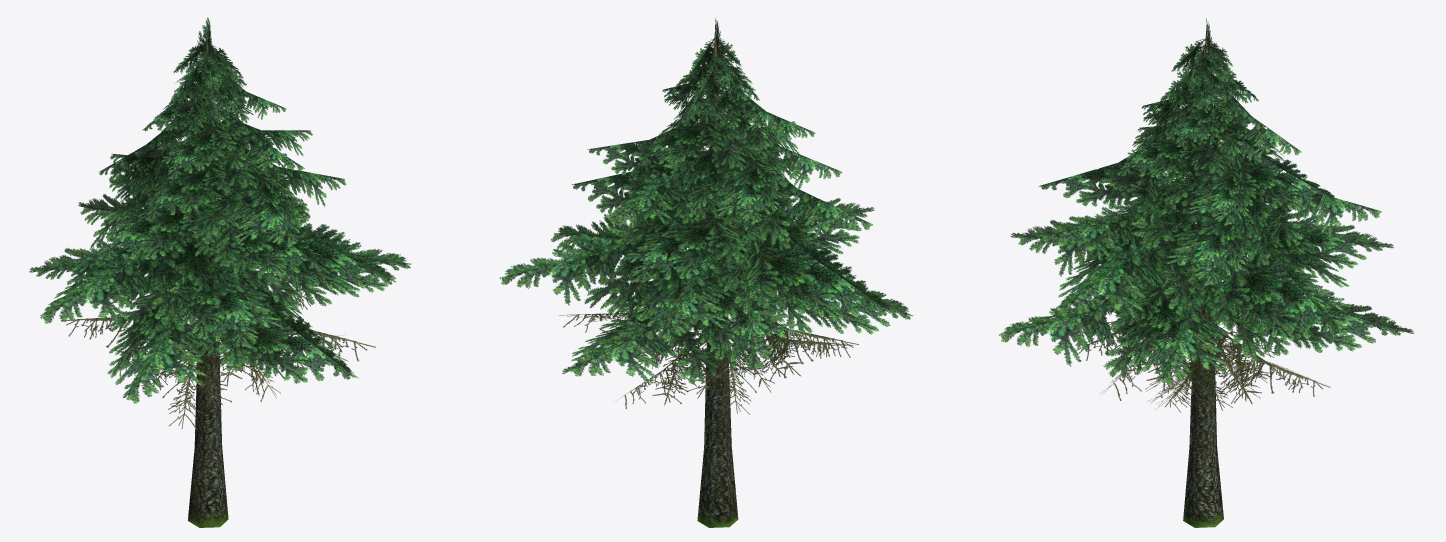
The model's file is tree4_3.glb.
The picture shows the model from 3 angles, left to right: view 1: azimuth 30°, elevation 25°; view 2: azimuth 150°, elevation 25°; view 3: azimuth 270°, elevation 25°; orthographic projection.
Parts seen in each view (by area): view 1: tree4_3-col; view 2: tree4_3-col; view 3: tree4_3-col.
Boxes of the visible parts, x1,y1,x2,y2 form: tree4_3-col: (29, 17, 411, 527); tree4_3-col: (500, 18, 912, 527); tree4_3-col: (999, 18, 1413, 527).
Bounding box in the file's own units: 13.2 × 15.82 × 13.05.
3 materials, 3 textured.
